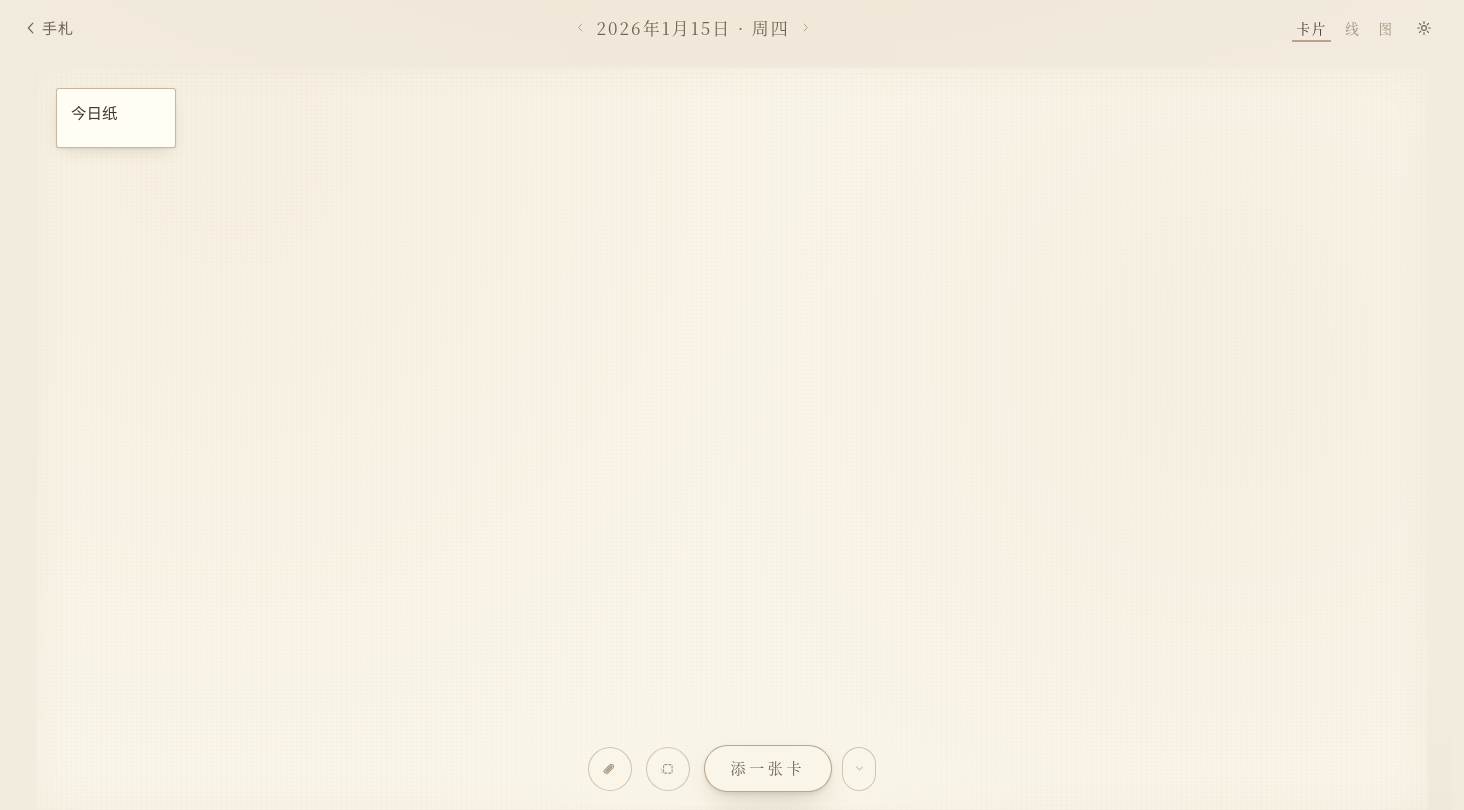
Test: 图模式（时间轴纸聚） › 页眉三段：卡片/线/图并排，点「图」进图模式并铺全日记的纸片；附件 chip 亮 kind 图标
Expected: the text "今日纸" is shown, 71,102 -> 118,124
Click the button "图". click: (1386, 28)
box: 1371,14 -> 1402,42
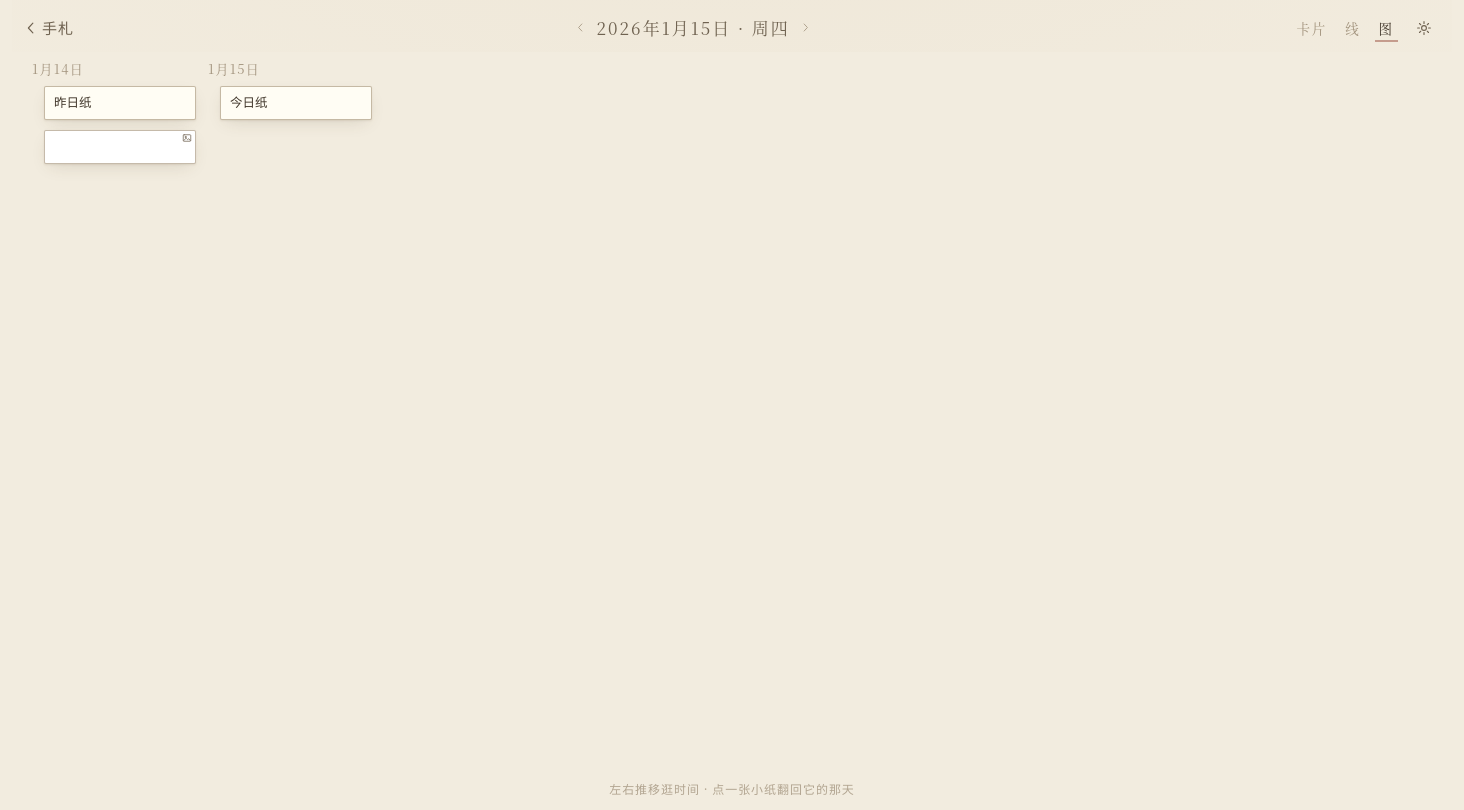
Expected: the 6th icon is shown, 181,132 -> 193,144
Expected: the element showing "1月14日 1月15日 昨日纸 今日纸 左右推移逛时间 · 点一张小纸翻回它的那天" is shown
